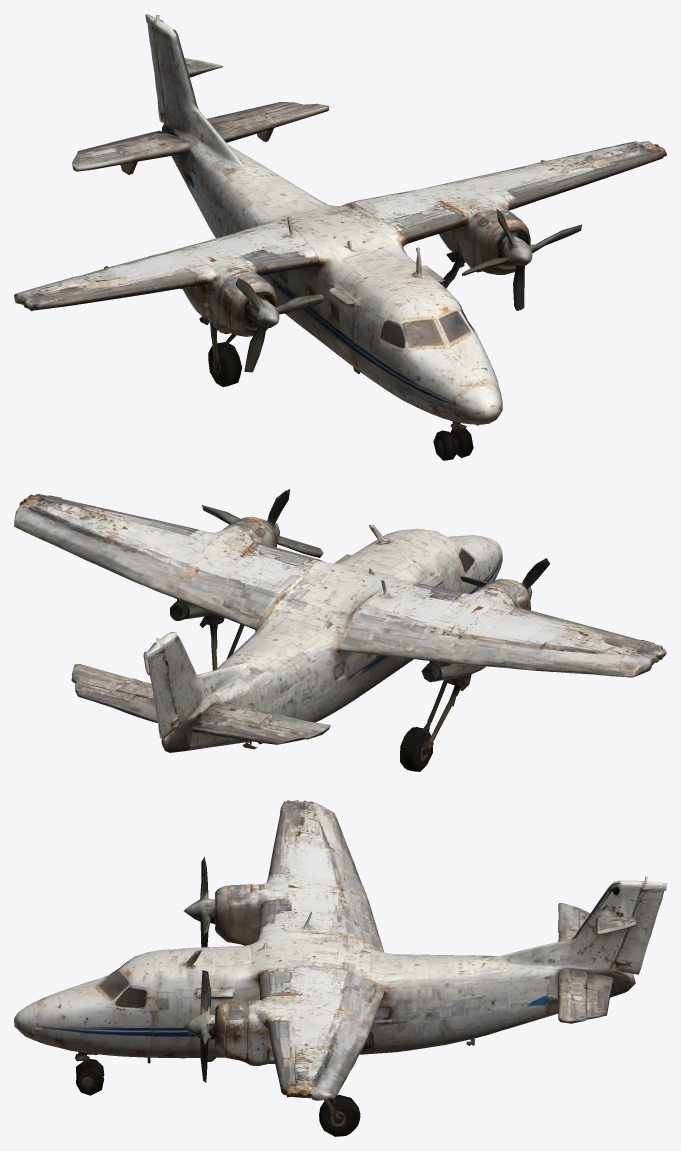
The model's file is ap_regional.glb.
3 views of the same model, one above another, from view 1: azimuth 30°, elevation 25°; view 2: azimuth 150°, elevation 25°; view 3: azimuth 270°, elevation 25° (orthographic). The views are drawn at different scales.
Parts seen in each view (by area): view 1: tripo_node_b277cc34-a3b6-4ad2-90fb-b0d5a594969c; view 2: tripo_node_b277cc34-a3b6-4ad2-90fb-b0d5a594969c; view 3: tripo_node_b277cc34-a3b6-4ad2-90fb-b0d5a594969c.
Part boxes in pixels (bbox=[...]): tripo_node_b277cc34-a3b6-4ad2-90fb-b0d5a594969c: bbox=[14, 14, 666, 460]; tripo_node_b277cc34-a3b6-4ad2-90fb-b0d5a594969c: bbox=[14, 489, 666, 771]; tripo_node_b277cc34-a3b6-4ad2-90fb-b0d5a594969c: bbox=[14, 800, 666, 1136].
Size of the model in its own units: 0.9882 by 0.3336 by 0.9268.
Materials: 1 (1 with a texture image).
